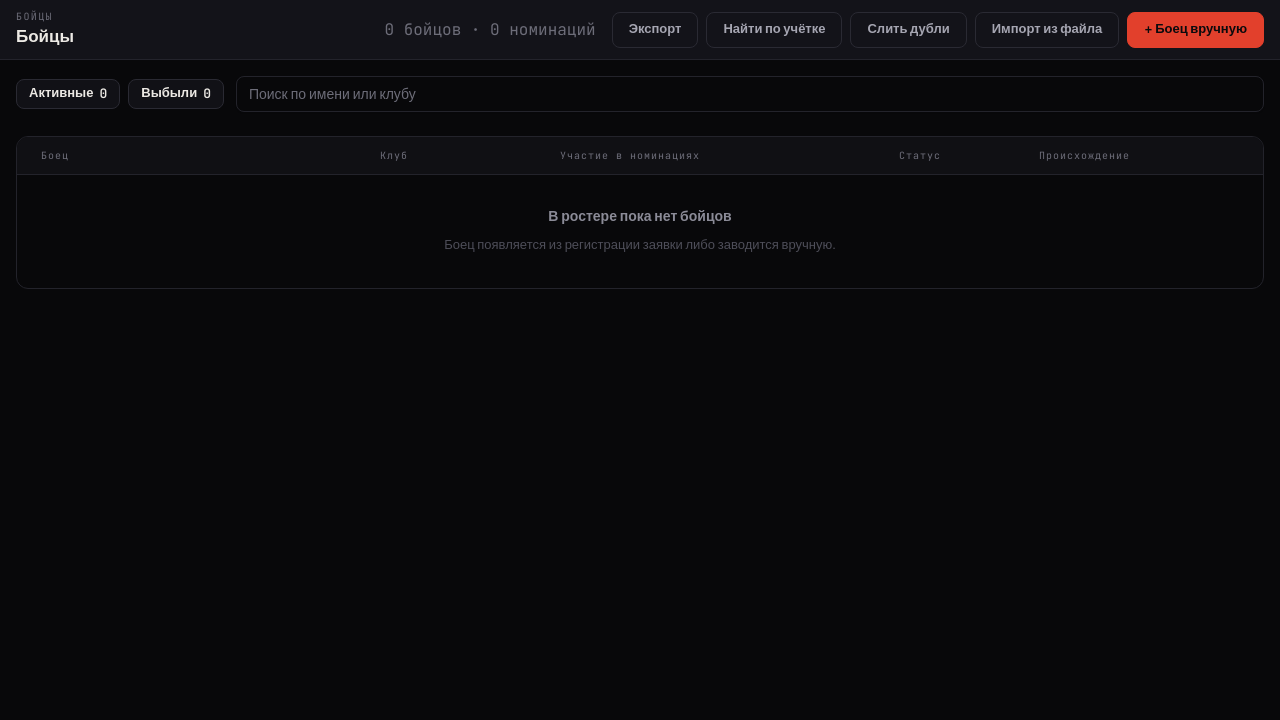
Test case: FightersScreen › opens the merge dialog from the section header (spec 0040, FR-10)
What coordinates should you click on to do the following:
click the button "Слить дубли"
I would click on:
 (909, 30)
Its box is 850,12 -> 967,48.
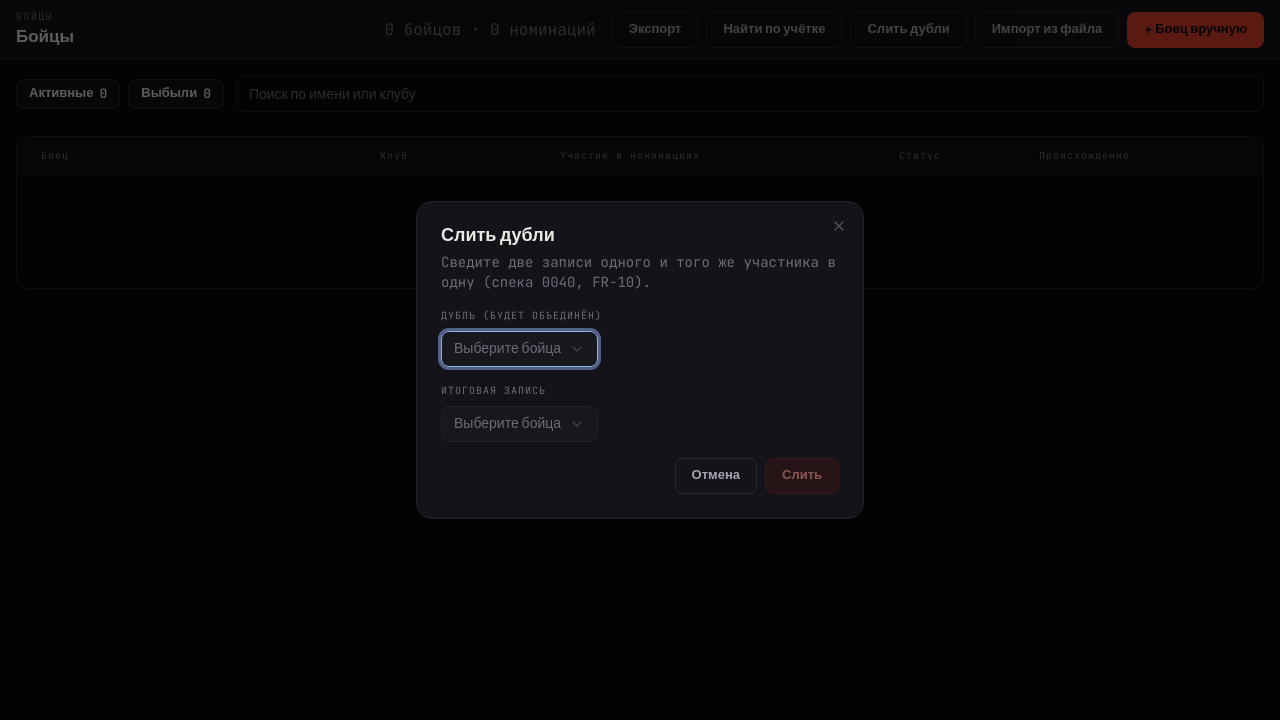
Expected: the dialog "Слить дубли" is shown, 416,201 -> 864,519
